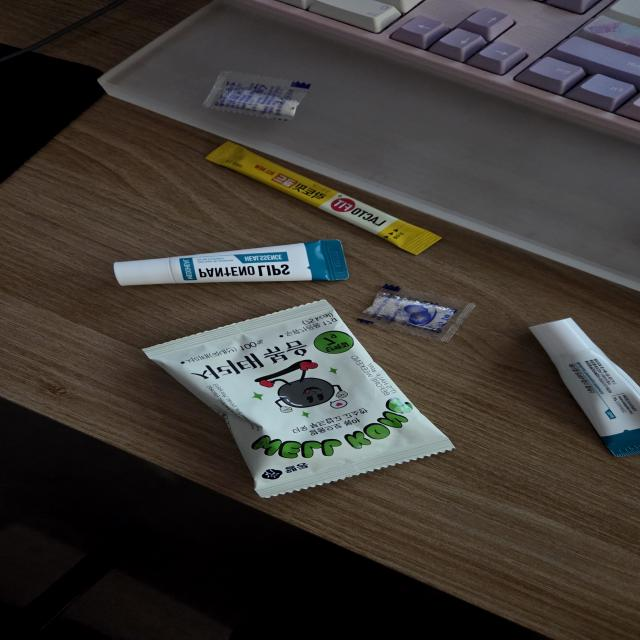lacto: (207, 139, 444, 255), (527, 313, 638, 458)
lib: (112, 235, 350, 289)
salt: (357, 282, 479, 344), (200, 72, 312, 122)
